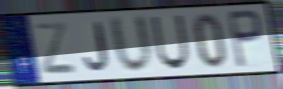0: (192, 11, 228, 71)
J: (82, 20, 111, 73)
P: (225, 8, 265, 70)
U: (107, 13, 155, 76), (149, 14, 191, 72)
Z: (33, 21, 79, 77)
